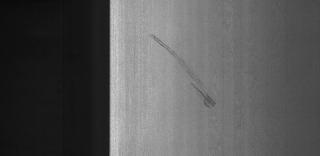silk spot: (222, 19, 294, 145)
water spot: (146, 29, 222, 113)
